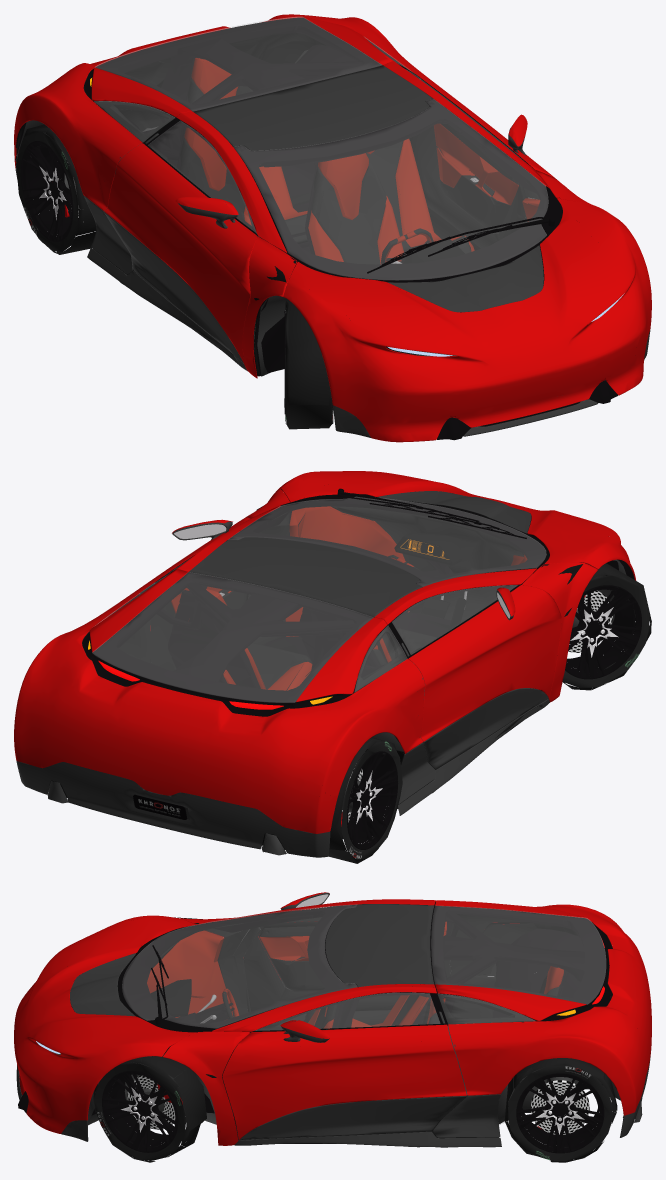
Rendered from car-concept-web.glb.
The picture shows the model from 3 angles, top to bottom: view 1: azimuth 30°, elevation 25°; view 2: azimuth 150°, elevation 25°; view 3: azimuth 270°, elevation 25°; orthographic projection. The views are drawn at different scales.
Visible parts, largest first — view 1: BodyHood, BodyWindshield, BodyRearwindow, BodyDoorRColor1, BodyRearPanelsColor1, BodyRoofPanel, BodyWindshieldGasket, InteriorSeatsColor1, InteriorSeatsColor2, BodyPillars, InteriorPillar, InteriorRearHatch (+22 smaller); view 2: BodyRearPanelsColor1, BodyRearwindow, BodyWindshield, BodyDoorRColor1, BodyPanelsColor2, BodyRoofPanel, BodyHood, InteriorRearHatch, BodyPillars, InteriorPillar, InteriorDashMid, BodyWindshieldGasket (+22 smaller); view 3: BodyRearPanelsColor1, BodyWindshield, BodyDoorLColor1, BodyHood, BodyRearwindow, BodyRoofPanel, BodyPillars, BodyWindshieldGasket, BodyDoorLColor2, BodyPanelsColor2, InteriorRearHatch, WheelFrontL (+25 smaller).
Part boxes in pixels (<box>): BodyHood: <box>283,198,651,442</box>; BodyWindshield: <box>234,98,548,280</box>; BodyRearwindow: <box>95,17,381,111</box>; BodyDoorRColor1: <box>104,143,257,362</box>; BodyRearPanelsColor1: <box>14,14,428,210</box>; BodyRoofPanel: <box>193,65,431,150</box>; BodyWindshieldGasket: <box>234,99,562,282</box>; InteriorSeatsColor1: <box>184,58,474,264</box>; InteriorSeatsColor2: <box>180,78,471,264</box>; BodyPillars: <box>176,61,597,378</box>; InteriorPillar: <box>159,37,434,167</box>; InteriorRearHatch: <box>93,17,381,118</box>; BodyRearPanelsColor1: <box>14,569,425,833</box>; BodyRearwindow: <box>92,572,373,702</box>; BodyWindshield: <box>229,497,546,586</box>; BodyDoorRColor1: <box>408,585,561,741</box>; BodyPanelsColor2: <box>16,699,549,857</box>; BodyRoofPanel: <box>189,537,421,617</box>; BodyHood: <box>277,471,636,580</box>; InteriorRearHatch: <box>93,573,385,707</box>; BodyPillars: <box>175,489,597,702</box>; InteriorPillar: <box>173,573,416,682</box>; InteriorDashMid: <box>331,502,527,622</box>; BodyWindshieldGasket: <box>229,497,549,587</box>; BodyRearPanelsColor1: <box>435,900,651,1115</box>; BodyWindshield: <box>122,904,357,1028</box>; BodyDoorLColor1: <box>222,1024,466,1139</box>; BodyHood: <box>14,915,196,1133</box>; BodyRearwindow: <box>431,905,605,1004</box>; BodyRoofPanel: <box>325,904,434,987</box>; BodyPillars: <box>163,899,436,1145</box>; BodyWindshieldGasket: <box>117,905,357,1032</box>; BodyDoorLColor2: <box>239,1096,466,1140</box>; BodyPanelsColor2: <box>16,1010,651,1147</box>; InteriorRearHatch: <box>431,906,605,1021</box>; WheelFrontL: <box>93,1054,206,1162</box>.
Bounding box in the file's own units: 2.55 × 1.17 × 4.36.
23 materials, 6 textured.
